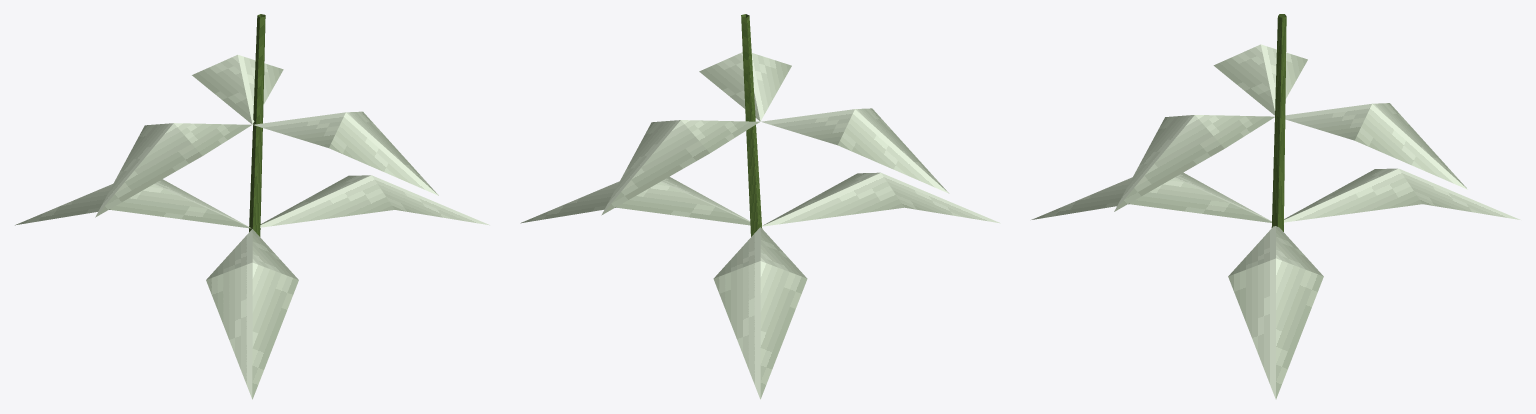
Rendered from bushy_1_lod.obj.
3 views of the same model, side by side, from view 1: azimuth 30°, elevation 25°; view 2: azimuth 150°, elevation 25°; view 3: azimuth 270°, elevation 25° (orthographic). The views are drawn at different scales.
Visible parts, largest first — view 1: plant; view 2: plant; view 3: plant.
Part boxes in pixels (bbox=[...]): plant: bbox=[15, 14, 489, 399]; plant: bbox=[520, 14, 1000, 399]; plant: bbox=[1031, 14, 1520, 399].
Size of the model in its own units: 0.7324 by 0.5068 by 0.7366.
